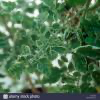Tomato leaf yellow virus: (71, 40, 99, 64), (5, 58, 26, 80), (36, 56, 54, 81), (71, 52, 86, 73), (17, 44, 35, 60), (44, 25, 59, 42), (35, 8, 48, 27), (49, 45, 69, 56), (72, 27, 84, 43), (28, 39, 48, 46)
